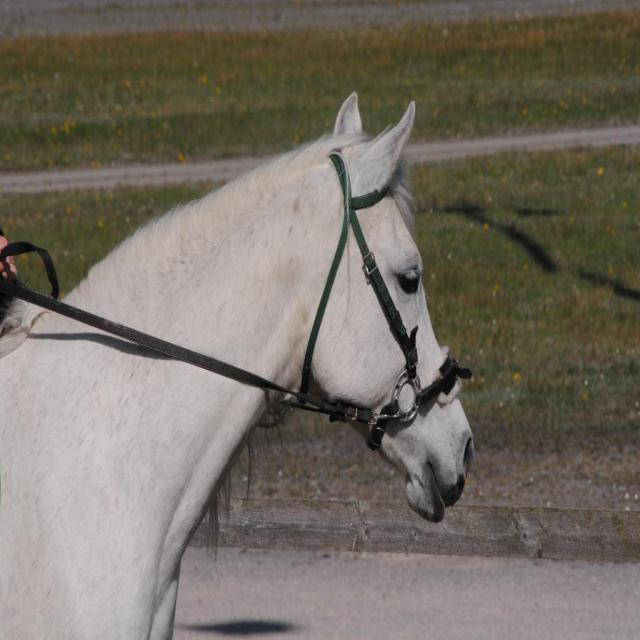Horse: (0, 91, 475, 639)
